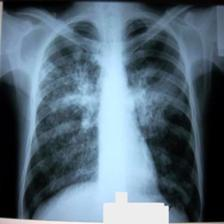tuberculosis: (13, 13, 204, 224)
